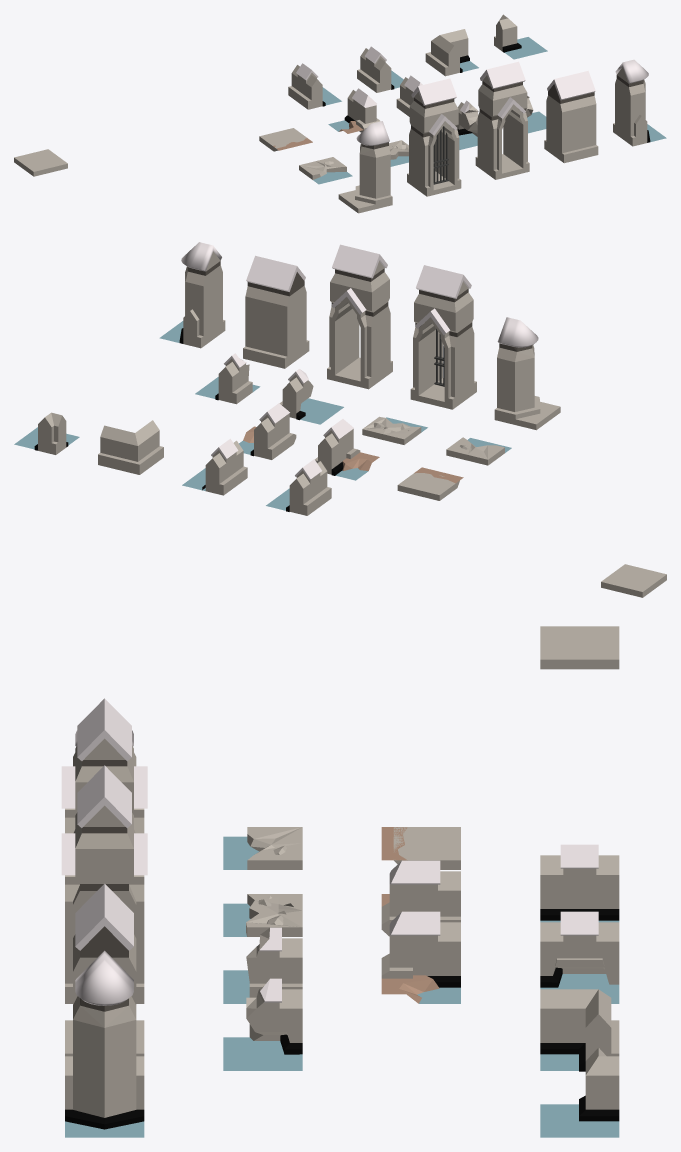
File: FLARE_bridge.glb
3 renders of one model, top to bottom at view 1: azimuth 30°, elevation 25°; view 2: azimuth 150°, elevation 25°; view 3: azimuth 270°, elevation 25°, orthographic. The views are drawn at different scales.
Parts seen in each view (by area): view 1: GateOpen, GateClosed, StructureMiddle, StructureEnd, StructureWater, WallCornerBig, WallStraight1, WallStraight2, WallGrass1, GroundTiles, WallCornerSmall, FloorWater1 (+6 smaller); view 2: GateOpen, GateClosed, StructureMiddle, StructureEnd, StructureWater, WallCornerBig, WallStraight1, WallStraight2, WallGrass2, WallGrass1, GroundTiles, WallWater2 (+6 smaller); view 3: StructureWater, GateClosed, GateOpen, WallStraight1, WallCornerBig, WallStraight2, StructureMiddle, WallGrass2, WallGrass1, GroundTiles, WallWater2, WallWater1 (+11 smaller).
Part boxes in pixels (box(x1,y1,x2,y2)): GateOpen: box(407, 78, 461, 196); GateClosed: box(475, 61, 529, 179); StructureMiddle: box(544, 70, 598, 163); StructureEnd: box(338, 121, 392, 213); StructureWater: box(613, 59, 650, 146); WallCornerBig: box(425, 29, 469, 76); WallStraight1: box(288, 63, 325, 109); WallStraight2: box(357, 46, 394, 92); WallGrass1: box(344, 88, 380, 132); GroundTiles: box(14, 149, 67, 176); WallCornerSmall: box(494, 14, 521, 52); FloorWater1: box(299, 157, 346, 179); GateOpen: box(410, 265, 476, 409); GateClosed: box(327, 244, 392, 389); StructureMiddle: box(243, 255, 309, 368); StructureEnd: box(494, 317, 560, 430); StructureWater: box(179, 242, 225, 348); WallCornerBig: box(98, 420, 163, 474); WallStraight1: box(286, 459, 331, 515); WallStraight2: box(202, 438, 247, 495); WallGrass2: box(250, 403, 296, 459); WallGrass1: box(315, 419, 360, 475); GroundTiles: box(601, 564, 666, 597); WallWater2: box(215, 353, 252, 404); StructureWater: box(65, 950, 144, 1129); GateClosed: box(61, 765, 147, 1003); GateOpen: box(61, 698, 147, 833); WallStraight1: box(540, 844, 619, 920); WallCornerBig: box(540, 989, 619, 1071); WallStraight2: box(540, 911, 619, 987); StructureMiddle: box(65, 883, 144, 1056); WallGrass2: box(381, 911, 460, 987); WallGrass1: box(381, 860, 460, 936); GroundTiles: box(540, 626, 619, 669); WallWater2: box(246, 978, 302, 1054); WallWater1: box(246, 927, 302, 997).
Bounding box in the file's own units: 30 × 5.86 × 14.09.
